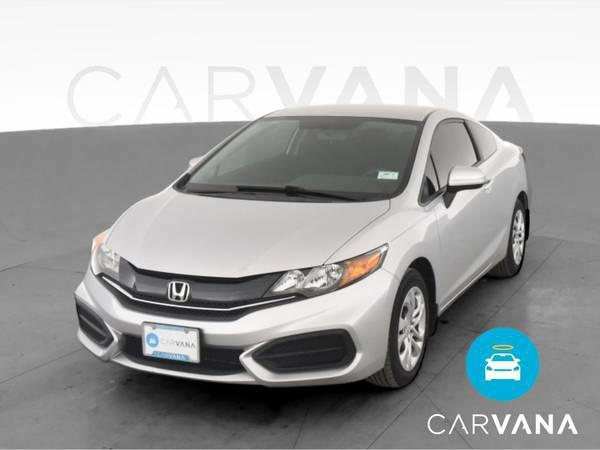Front_Bumper: (78, 257, 401, 385)
Front_Fender: (322, 189, 443, 316)
Front_Left_Door: (430, 165, 500, 305)
Front_Left_Window: (422, 124, 482, 204)
Front_Windshield: (175, 115, 420, 200)
Hood: (110, 190, 393, 280)
Left_Headlight: (264, 242, 387, 298)
Rear_Fender: (467, 123, 526, 262)
Right_Headlight: (90, 231, 121, 284)
Roof: (256, 103, 472, 205)
Wheel: (391, 271, 434, 383), (508, 204, 528, 270)
